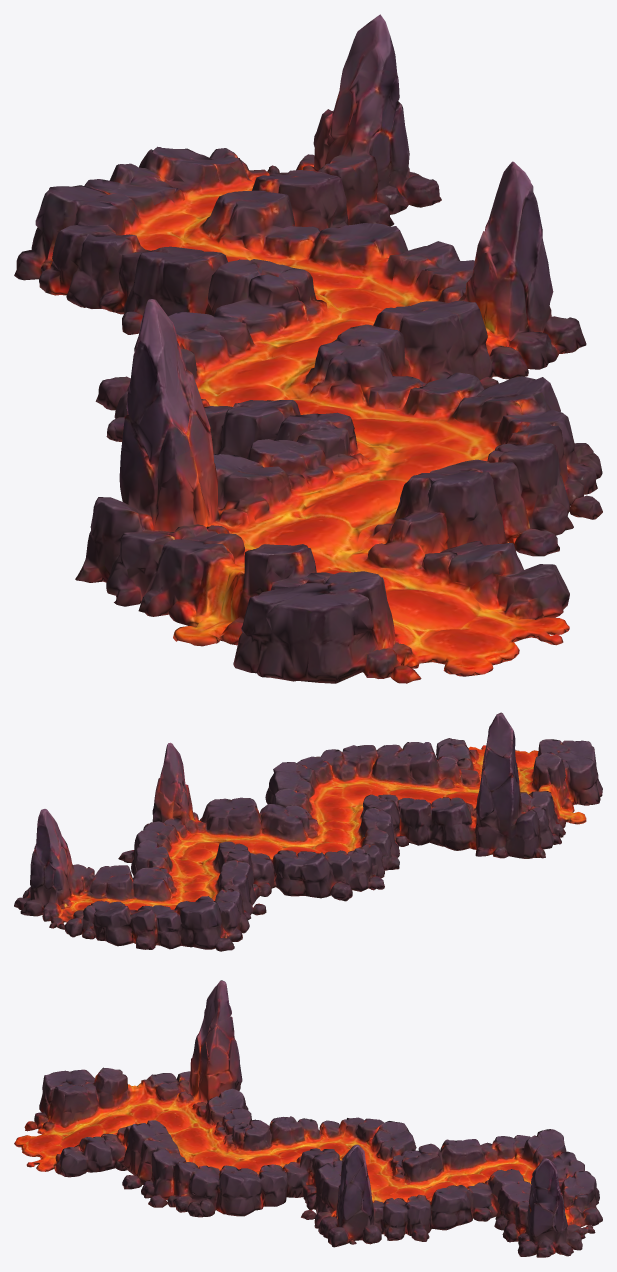
Rendered from lava_river_a.glb.
The picture shows the model from 3 angles, top to bottom: view 1: azimuth 30°, elevation 25°; view 2: azimuth 150°, elevation 25°; view 3: azimuth 270°, elevation 25°; orthographic projection. The views are drawn at different scales.
Parts seen in each view (by area): view 1: tripo_node_2c837524-89b3-4781-8ab6-6f493bb3cb99; view 2: tripo_node_2c837524-89b3-4781-8ab6-6f493bb3cb99; view 3: tripo_node_2c837524-89b3-4781-8ab6-6f493bb3cb99.
Part boxes in pixels (x1,y1,x2,y2): tripo_node_2c837524-89b3-4781-8ab6-6f493bb3cb99: (14, 14, 602, 683); tripo_node_2c837524-89b3-4781-8ab6-6f493bb3cb99: (14, 712, 602, 951); tripo_node_2c837524-89b3-4781-8ab6-6f493bb3cb99: (14, 980, 602, 1257).
Size of the model in its own units: 0.6497 by 0.2405 by 0.974.
1 material, 1 textured.
